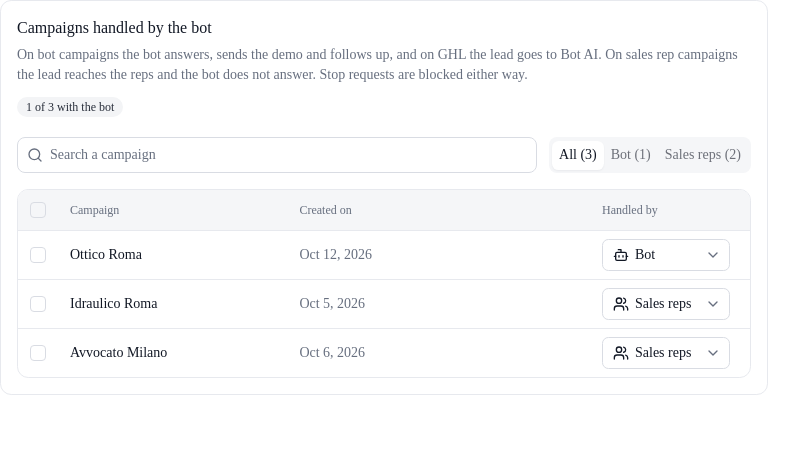
Test case: Bot campaigns card › offers to hand every selected campaign over at once
Click the checkbox named "Select all" at x=38, y=210, box [30,202,46,218]
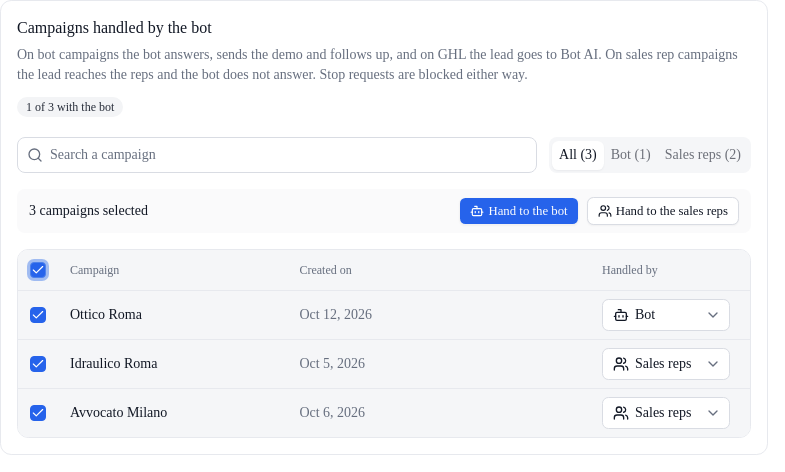
Check: the text "3 campaigns selected" is shown, box [29,201,148,221]
Check: the button "Hand to the bot" is shown, box [459,197,579,225]
